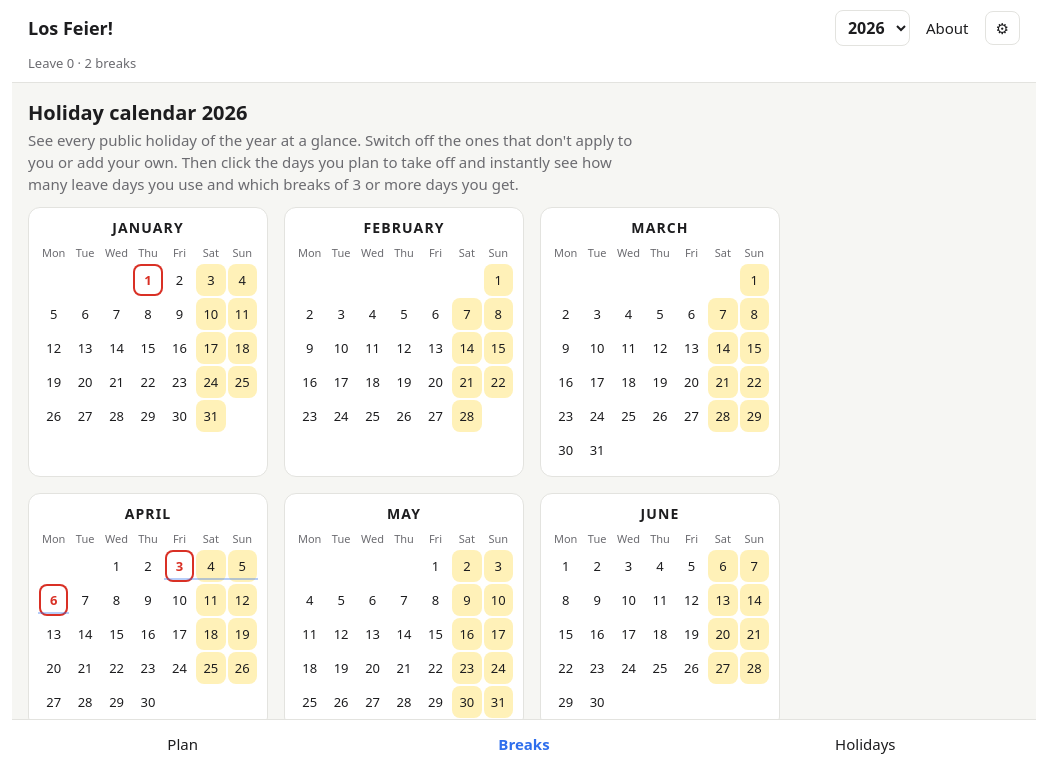
Test case: App › clicking a day updates the leave total and is saved
The width and height of the screenshot is (1048, 768).
Click the button "7" below "April": (85, 600) [70,584,100,616]
(page scrolled)
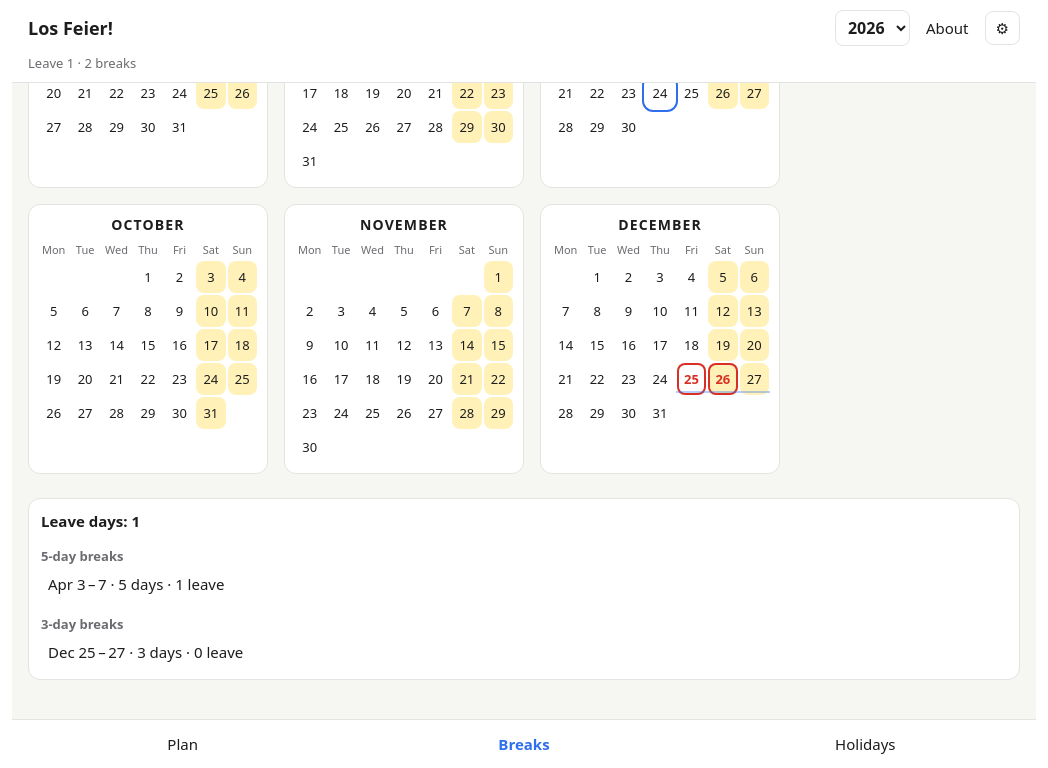
Now the heading "Leave days: 1" is shown, box [41,511,140,531]
